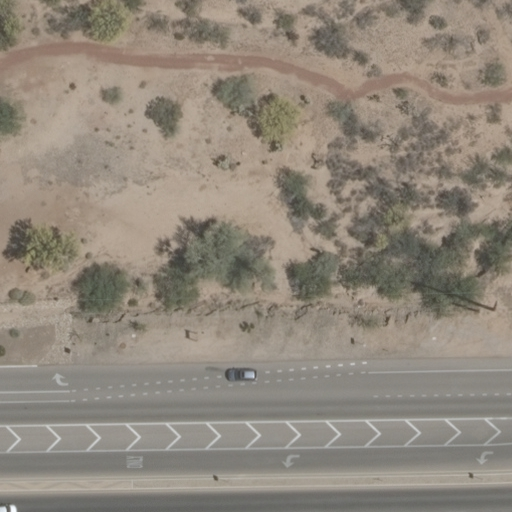DT: (486, 286, 509, 317)
